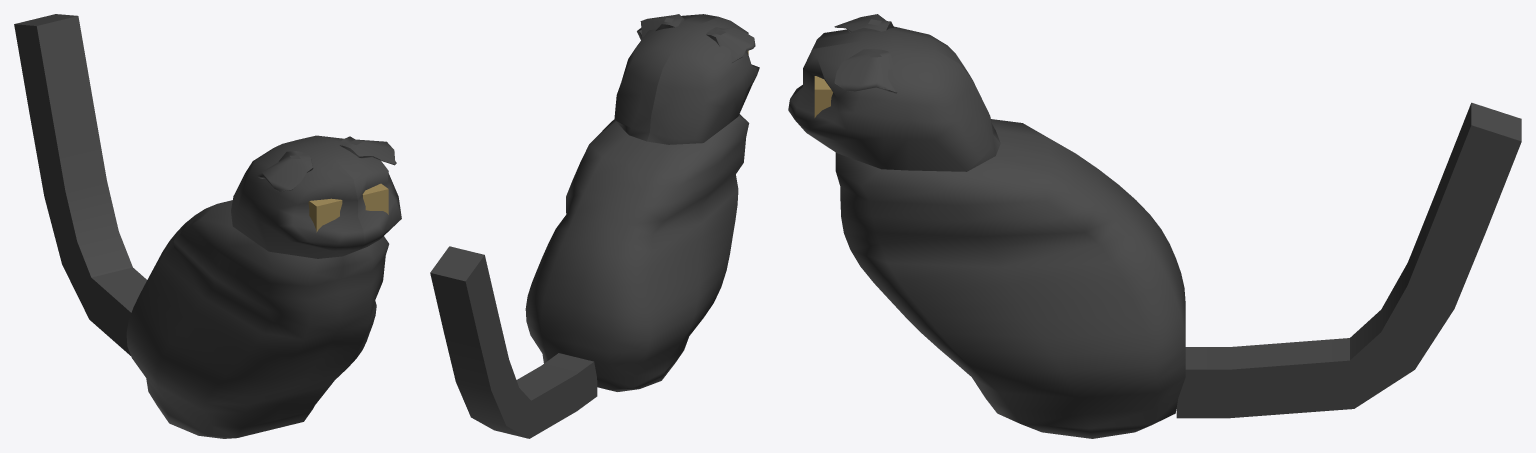
File: cath_Arian_Model.fbx
The picture shows the model from 3 angles, left to right: view 1: azimuth 30°, elevation 25°; view 2: azimuth 150°, elevation 25°; view 3: azimuth 270°, elevation 25°; orthographic projection. The views are drawn at different scales.
Visible parts, largest first — view 1: body, tail, eyes_R, eyes_L; view 2: body, tail; view 3: body, tail.
Boxes of the visible parts, x1,y1,x2,y2 form: body: (126,135,401,438); tail: (14,14,146,355); eyes_R: (308,198,342,232); eyes_L: (362,183,388,214); body: (525,14,759,391); tail: (430,246,597,438); body: (788,14,1185,438); tail: (1176,102,1521,418).
Bounding box in the file's own units: 4.03 × 7.68 × 13.7.
